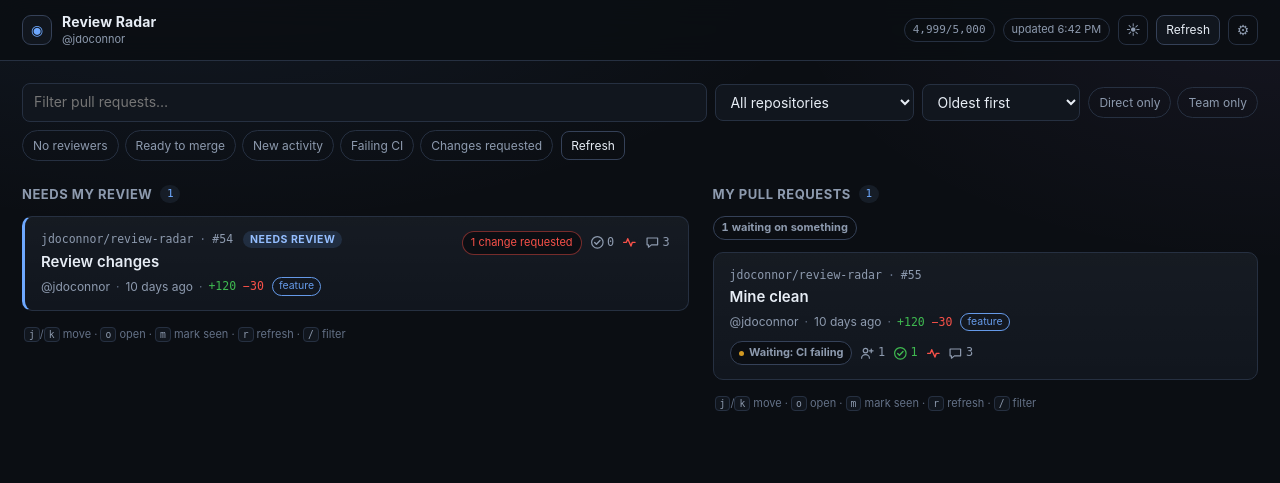
it: App › applies shared quick filters to both columns
expect the link "Review changes" is shown: met, box [41,252,159,271]
expect the link "Mine clean" is shown: met, box [730,287,809,306]
Click the button "Changes requested".
click(487, 145)  # box [420,130,553,161]
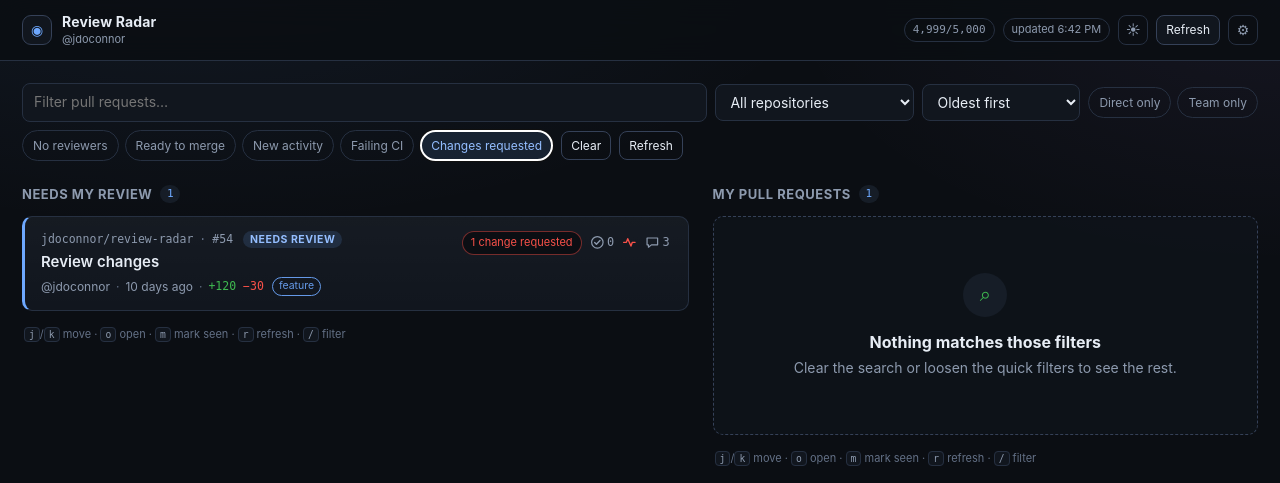
expect the link "Review changes" is shown: met, box [41,252,159,271]
expect the link "Mine clean" is gone: met
Click the button with test id "clear-filters".
click(586, 145)  # box [561,130,611,160]
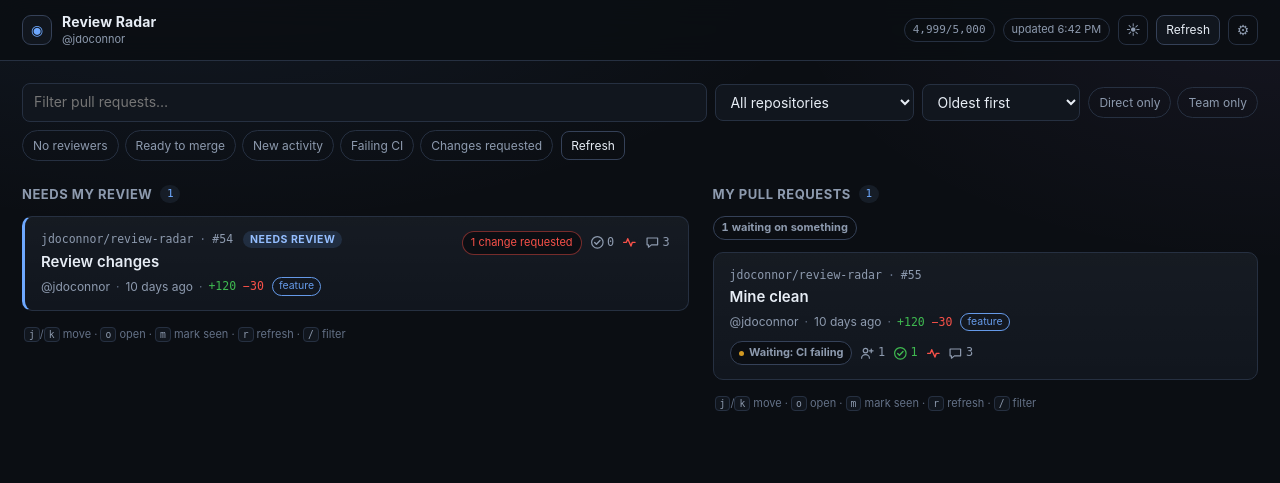
expect the link "Mine clean" is shown: met, box [730,287,809,306]
